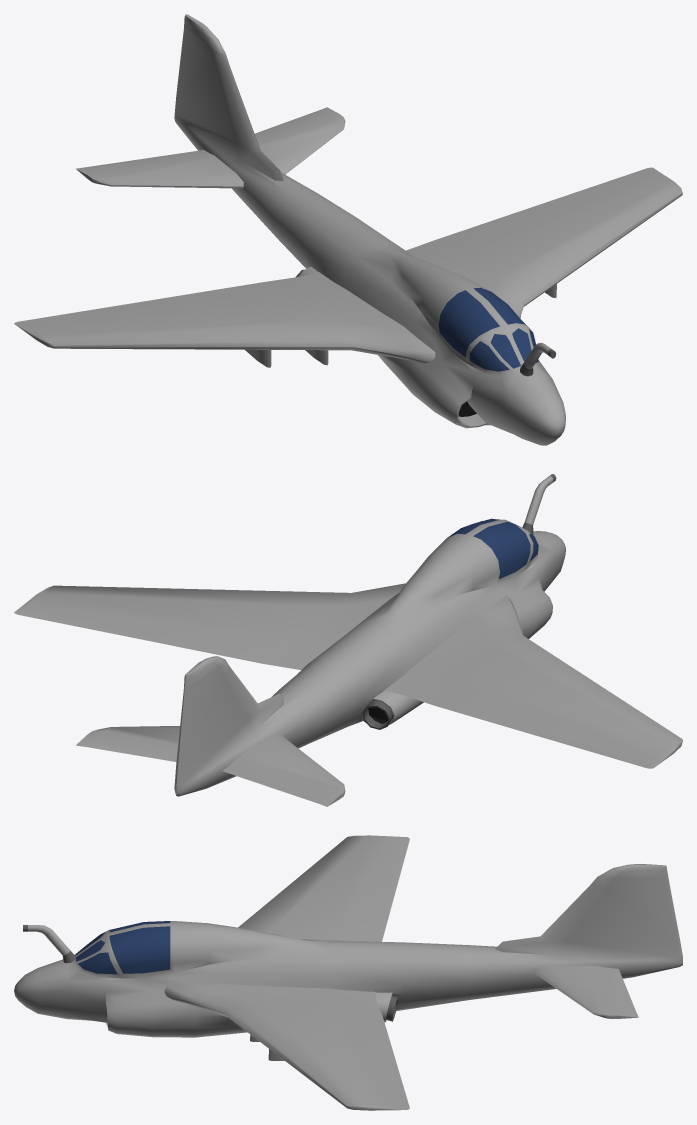
The model's file is A6E_INTRUDER.glb.
3 renders of one model, top to bottom at view 1: azimuth 30°, elevation 25°; view 2: azimuth 150°, elevation 25°; view 3: azimuth 270°, elevation 25°, orthographic. The views are drawn at different scales.
Visible parts, largest first — view 1: a6e_intruder; view 2: a6e_intruder; view 3: a6e_intruder.
Part boxes in pixels (box(x1,y1,x2,y2)): a6e_intruder: box(14, 14, 682, 445); a6e_intruder: box(14, 474, 682, 806); a6e_intruder: box(14, 835, 682, 1110).
Size of the model in its own units: 15.64 by 4.35 by 16.2.
